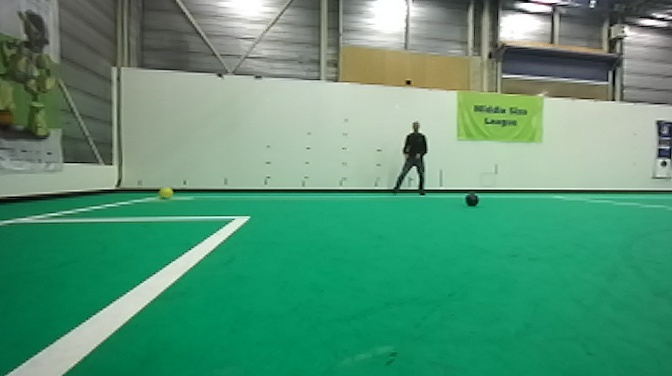ball: (462, 187, 482, 209), (157, 183, 176, 203)
human: (394, 119, 431, 198)
